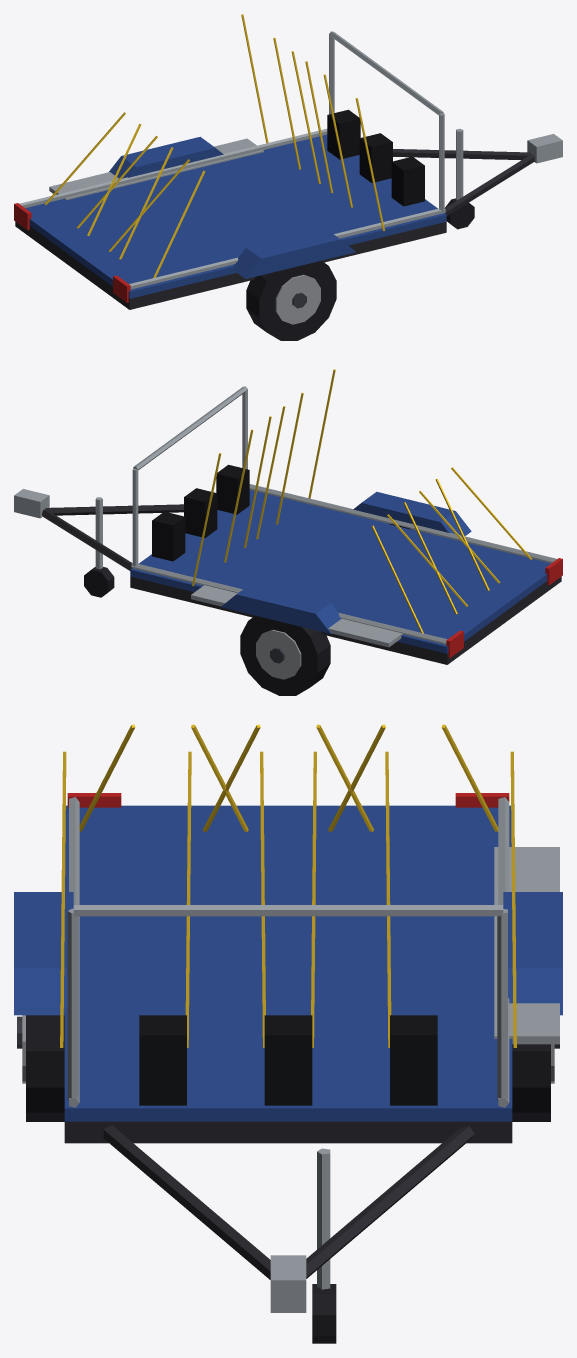
Rendered from bike_trailer.glb.
The picture shows the model from 3 angles, top to bottom: view 1: azimuth 30°, elevation 25°; view 2: azimuth 150°, elevation 25°; view 3: azimuth 270°, elevation 25°; orthographic projection. The views are drawn at different scales.
Visible parts, largest first — view 1: Frame, StrapsTwo, Ramp, StrapsOne; view 2: Frame, StrapsTwo, Ramp, StrapsOne; view 3: Frame, StrapsTwo, Ramp, StrapsOne.
Boxes of the visible parts, left/top/right/bottom form: Frame: left=14, top=31, right=562, bottom=340; StrapsTwo: left=45, top=14, right=384, bottom=278; Ramp: left=49, top=138, right=263, bottom=200; StrapsOne: left=76, top=37, right=352, bottom=259; Frame: left=14, top=386, right=562, bottom=695; StrapsTwo: left=192, top=369, right=531, bottom=633; Ramp: left=191, top=585, right=402, bottom=647; StrapsOne: left=224, top=392, right=500, bottom=614; Frame: left=14, top=793, right=562, bottom=1343; StrapsTwo: left=60, top=724, right=516, bottom=1047; Ramp: left=494, top=847, right=559, bottom=1044; StrapsOne: left=185, top=724, right=391, bottom=1047.
Size of the model in its own units: 3.7 by 1.58 by 1.84.
